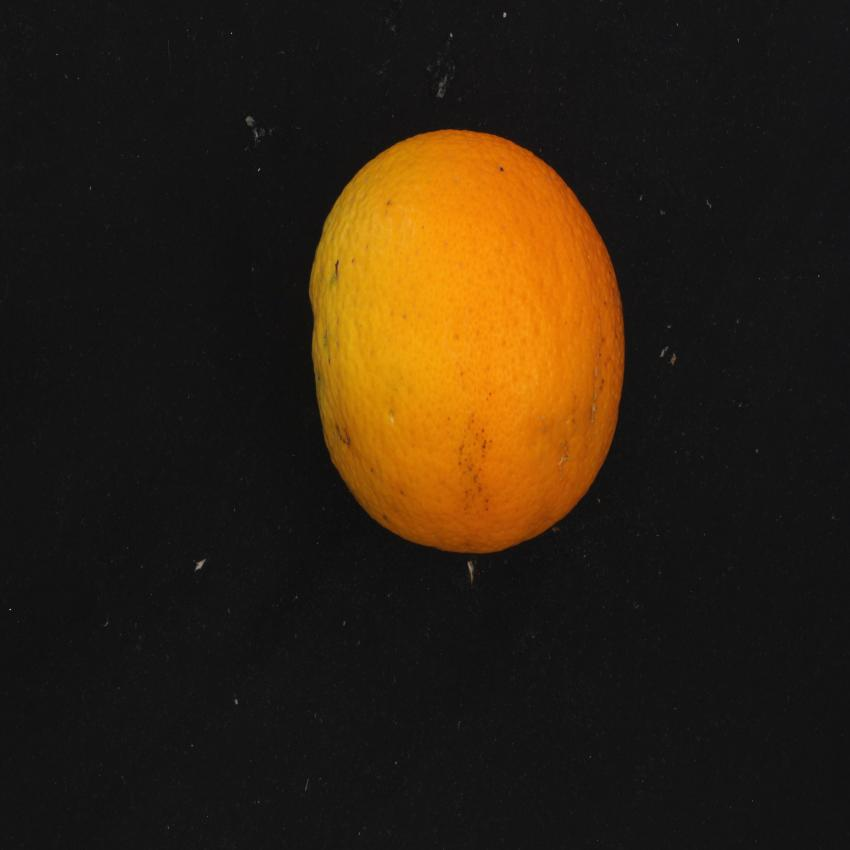Buen estado: (302, 112, 636, 572)
